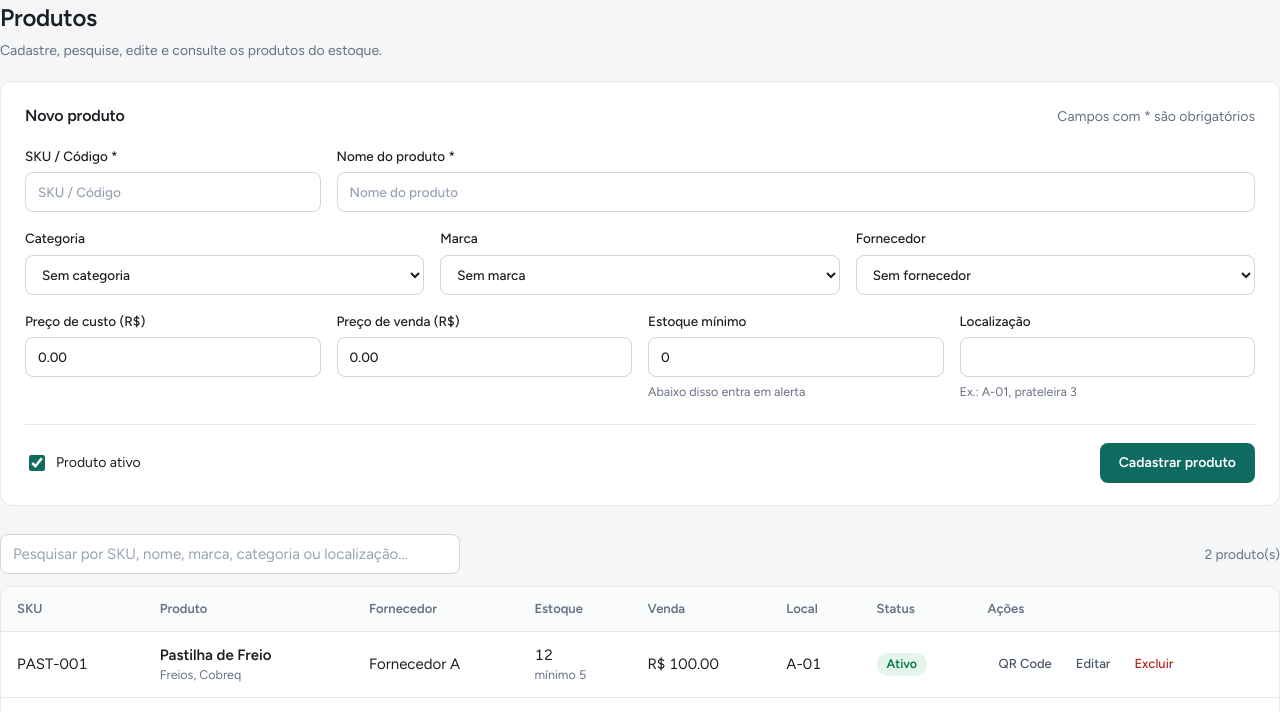
Test: Produtos › filtra a listagem pela pesquisa
Expected: the text "Pastilha de Freio" is shown, [160,646,272,664]
Type "PAST" into the field with placeholder "Pesquisar por SKU, nome, marca, categoria ou localização..." at (230, 554), box [0,534,460,574]
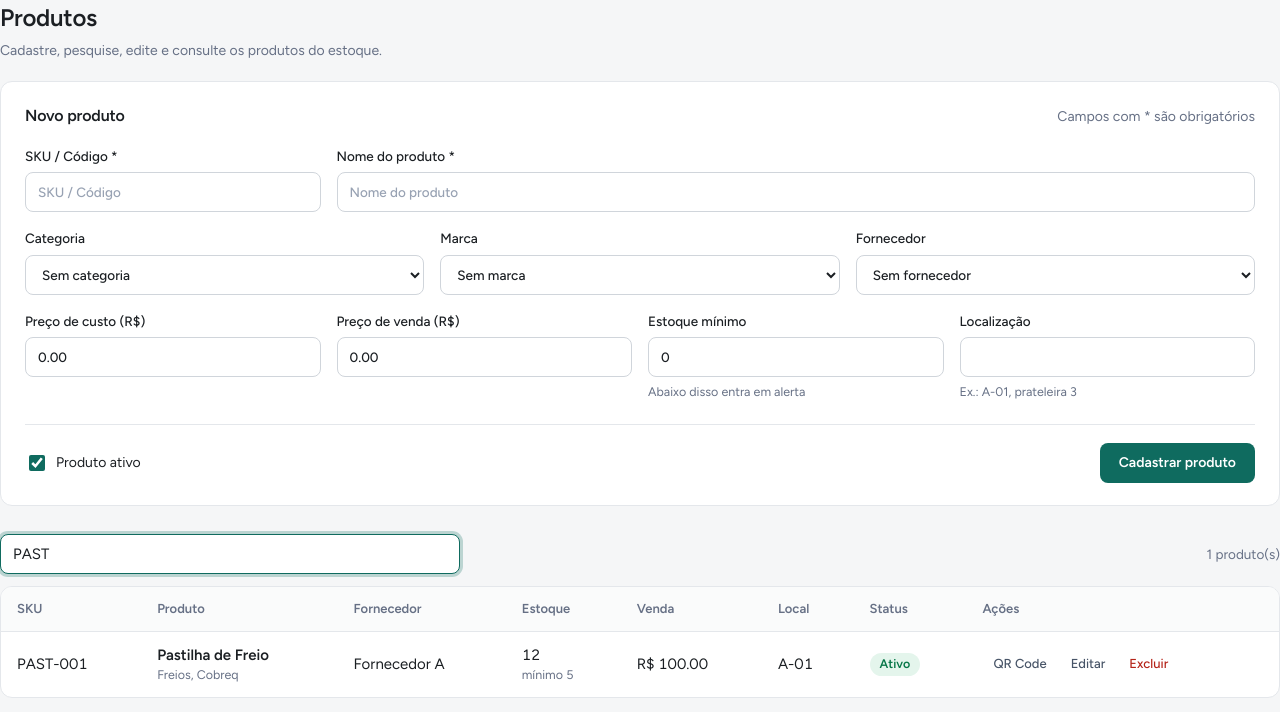
Expected: the text "Pastilha de Freio" is shown, [157,646,269,664]
Expected: the text "1 produto(s)" is shown, [1207,544,1279,564]
